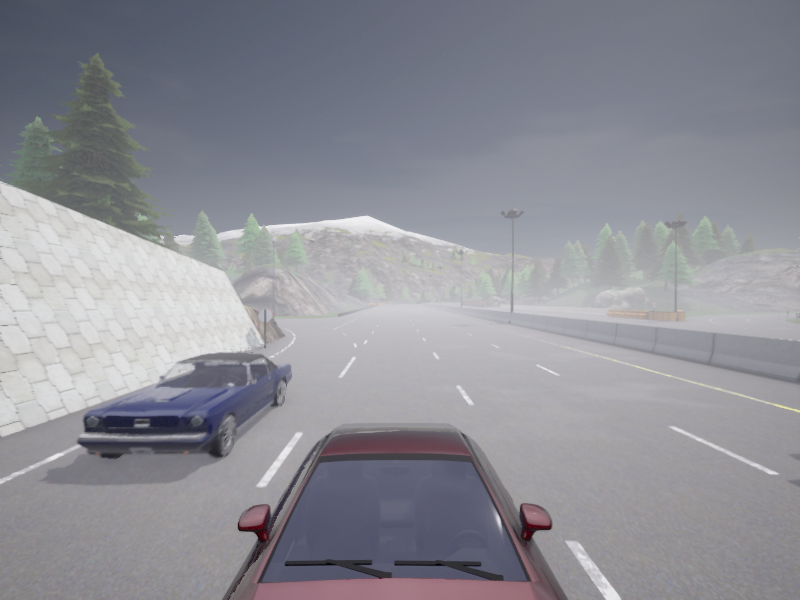vehicle: (222, 423, 567, 599), (76, 352, 292, 458)
